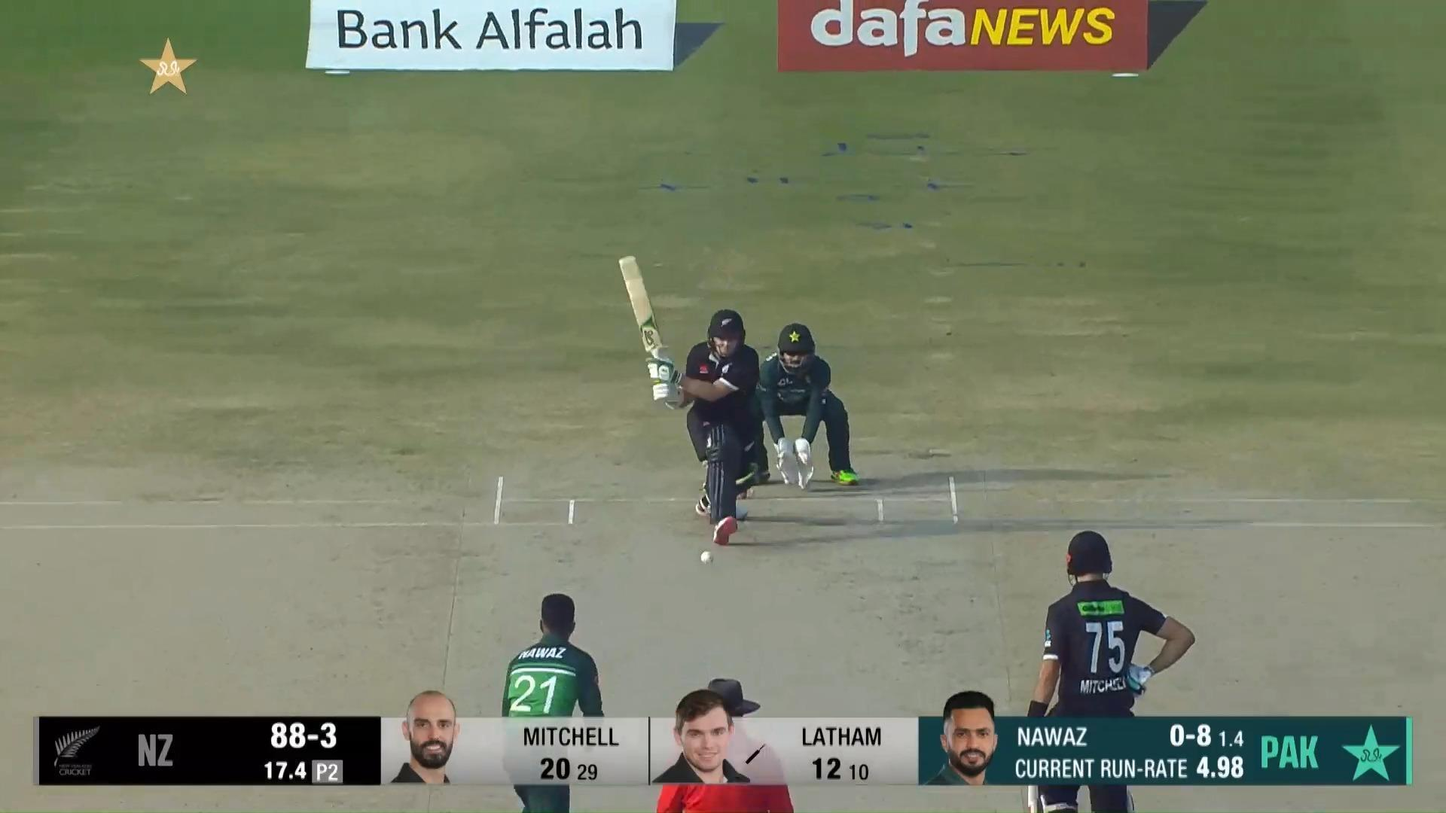BM 1: (619, 254, 761, 546)
BO: (501, 593, 604, 813)
